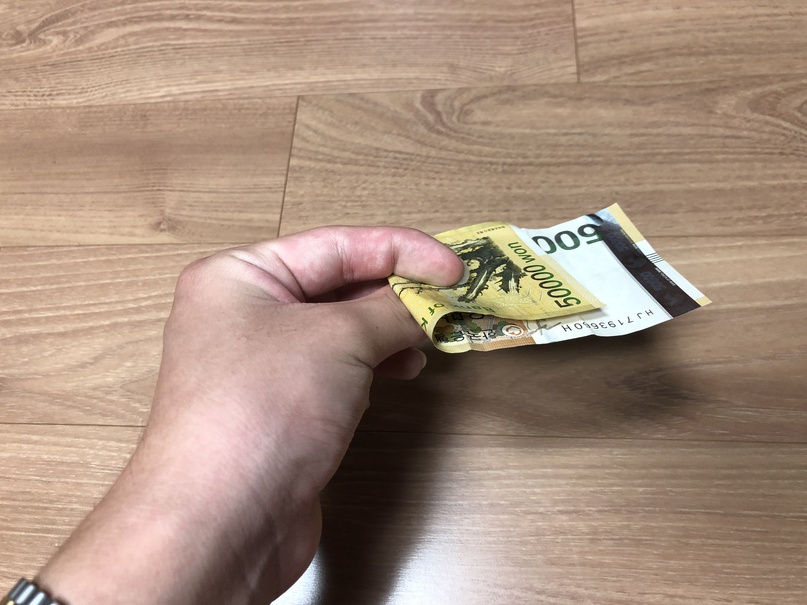50000won: (388, 204, 714, 353)
